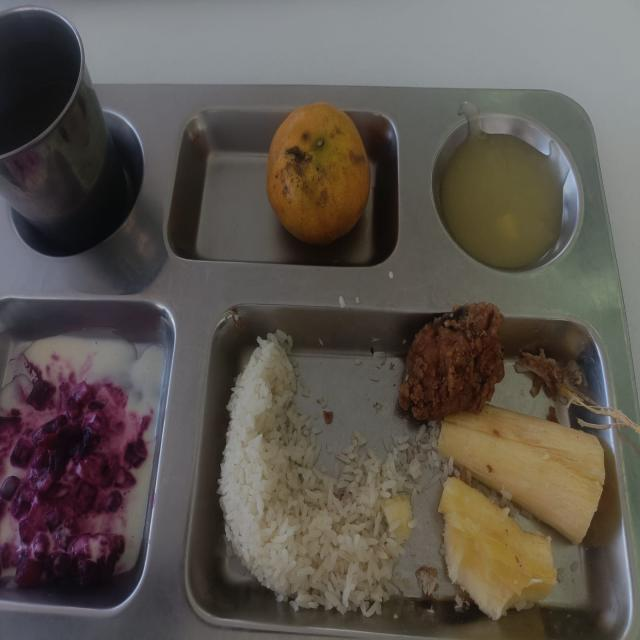arroz: (218, 331, 406, 615), (412, 460, 419, 471), (408, 501, 411, 507), (346, 459, 349, 464), (410, 515, 412, 520), (405, 495, 407, 497), (361, 440, 363, 442), (410, 530, 411, 533), (401, 455, 402, 457), (358, 438, 359, 439)
mandarina: (266, 103, 370, 245)
pescado frito: (398, 303, 504, 420), (517, 351, 597, 412), (329, 414, 332, 420), (623, 417, 626, 419), (620, 418, 621, 420), (607, 408, 608, 410), (616, 414, 617, 415), (603, 409, 604, 410), (598, 409, 599, 410)
yuca: (439, 406, 604, 543), (439, 478, 556, 619), (382, 495, 415, 543)
